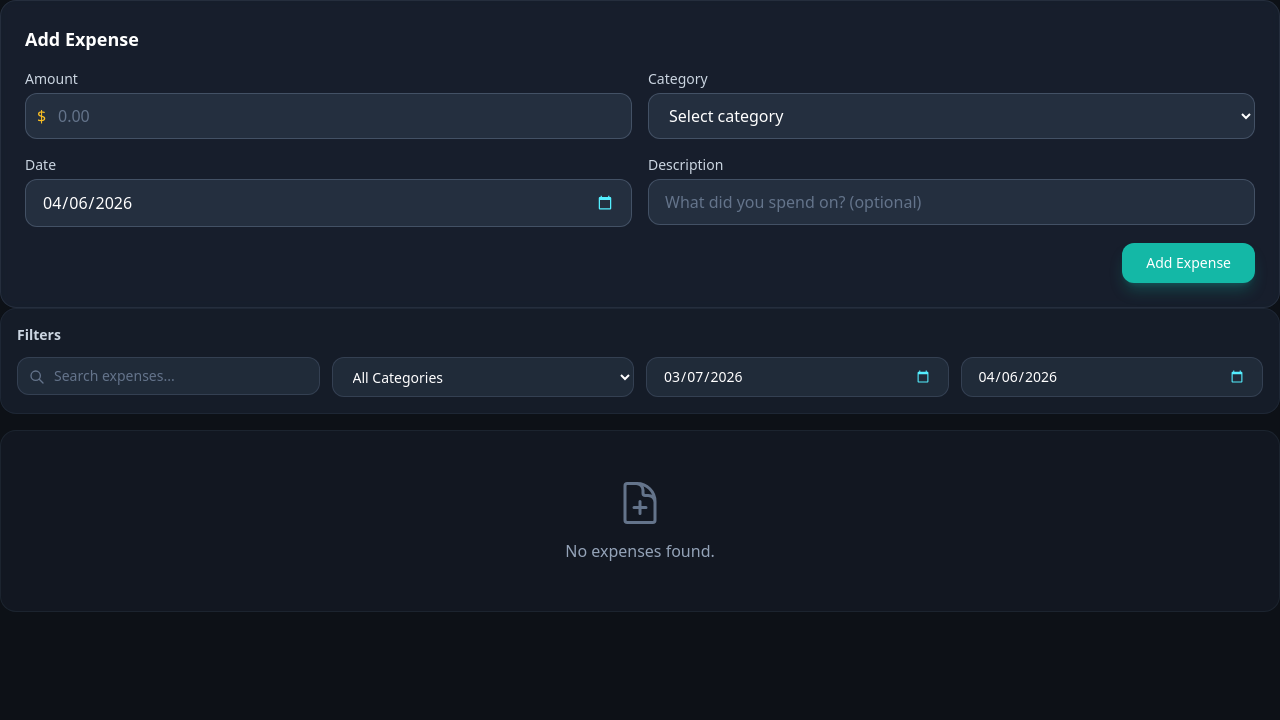
Test: Expenses view › adding expenses › shows validation errors for empty form submission
Expected: the text "No expenses found." is shown, [565,540,715,562]
Click the button "Add Expense".
click(1189, 263)  # box [1122,243,1255,283]
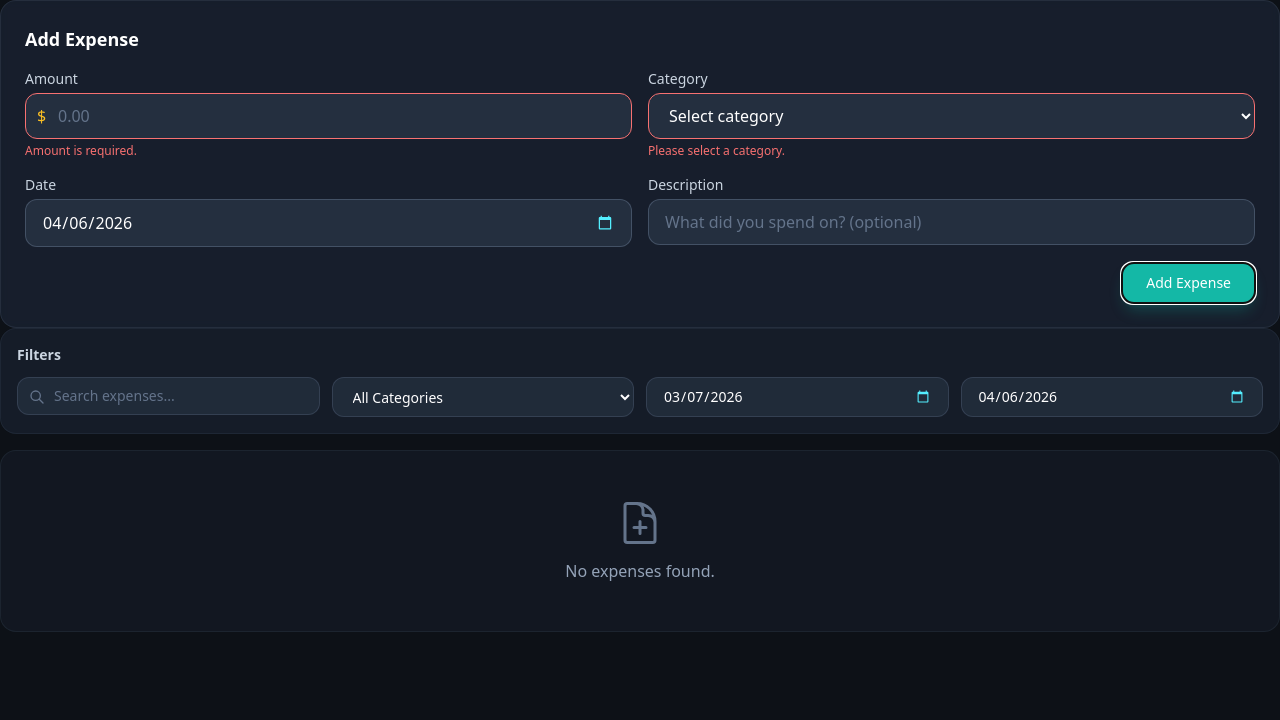
Expected: the text "Amount is required." is shown, [25,142,137,159]
Expected: the text "Please select a category." is shown, [648,142,785,159]
